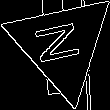N_E: (34, 20, 90, 70)
